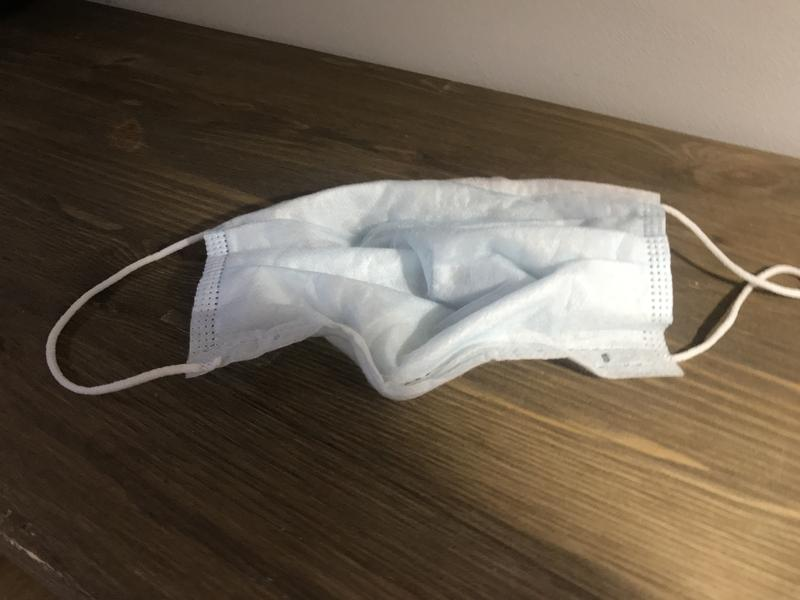medical_mask: (46, 176, 800, 397)
